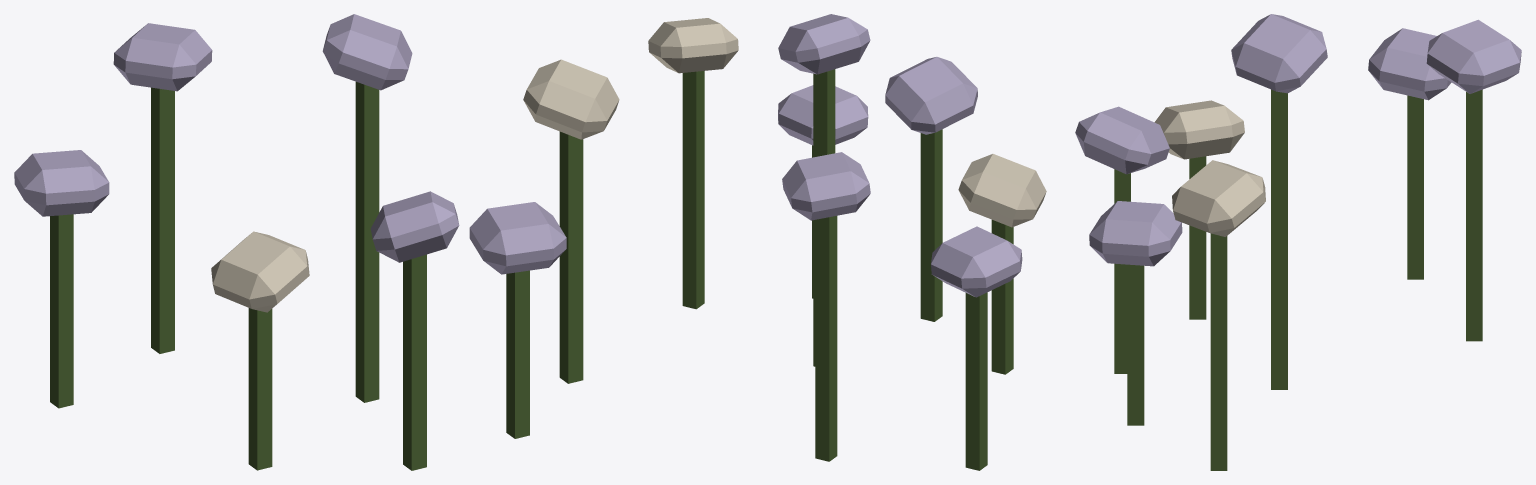
File: flores_2.glb
The picture shows the model from 3 angles, left to right: view 1: azimuth 30°, elevation 25°; view 2: azimuth 150°, elevation 25°; view 3: azimuth 270°, elevation 25°; orthographic projection. The views are drawn at different scales.
Parts seen in each view (by area): view 1: flores_2.001; view 2: flores_2.001; view 3: flores_2.001.
Part boxes in pixels (<box>): flores_2.001: <box>14,14,619,470</box>; flores_2.001: <box>648,14,1046,470</box>; flores_2.001: <box>1075,14,1521,470</box>.
Bounding box in the file's own units: 0.458 × 0.3348 × 0.374.
